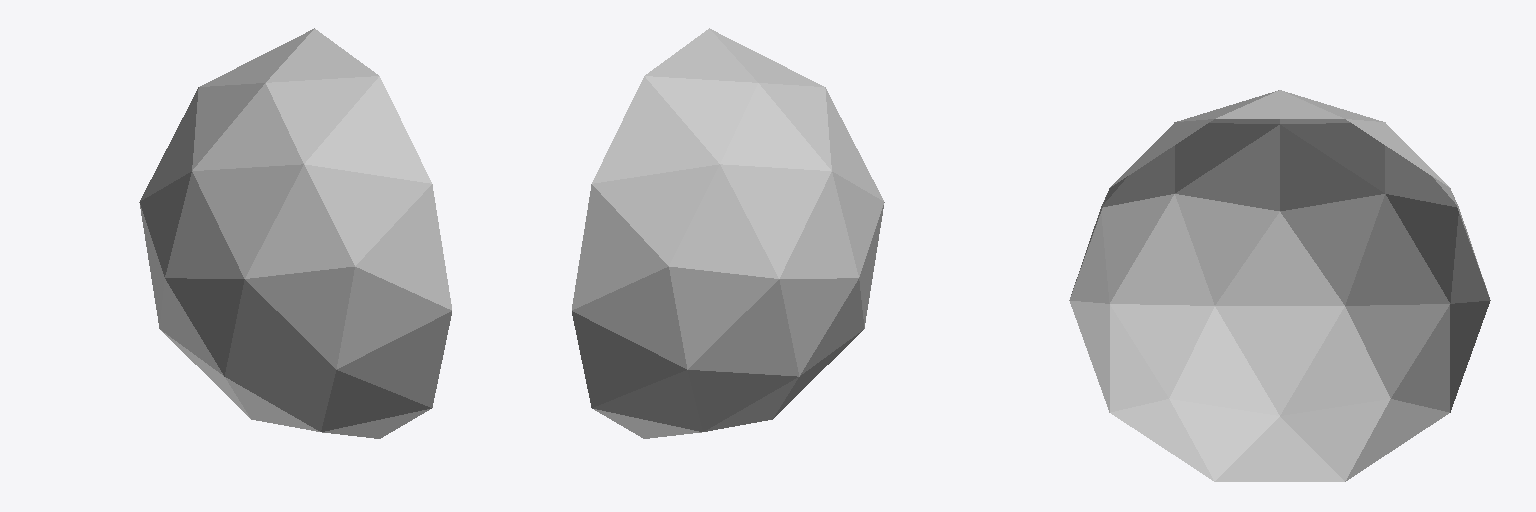
The model's file is a_main_col.obj.
The picture shows the model from 3 angles: view 1: azimuth 30°, elevation 25°; view 2: azimuth 150°, elevation 25°; view 3: azimuth 270°, elevation 25°; orthographic projection.
Size of the model in its own units: 0.2574 by 0.4895 by 0.5147.